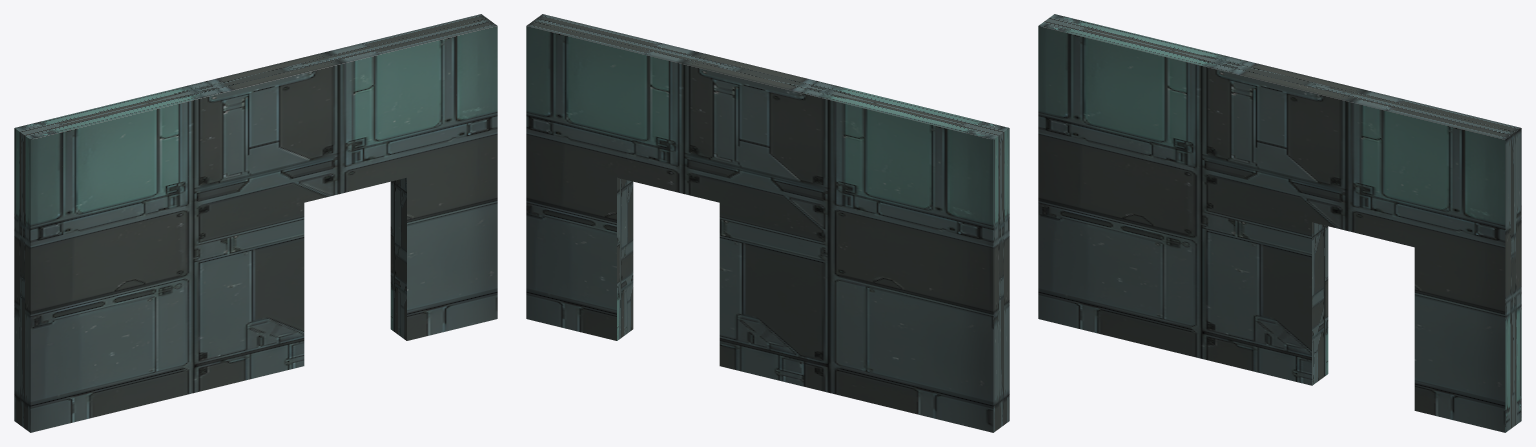
The model's file is door2.fbx.
The picture shows the model from 3 angles, left to right: view 1: azimuth 30°, elevation 25°; view 2: azimuth 150°, elevation 25°; view 3: azimuth 330°, elevation 25°; orthographic projection.
Parts seen in each view (by area): view 1: door2; view 2: door2; view 3: door2.
Boxes of the visible parts, <box> form: door2: <box>14,14,497,432</box>; door2: <box>526,14,1009,432</box>; door2: <box>1038,14,1521,432</box>.
Size of the model in its own units: 5 by 3 by 0.3.
1 material, 1 textured.
